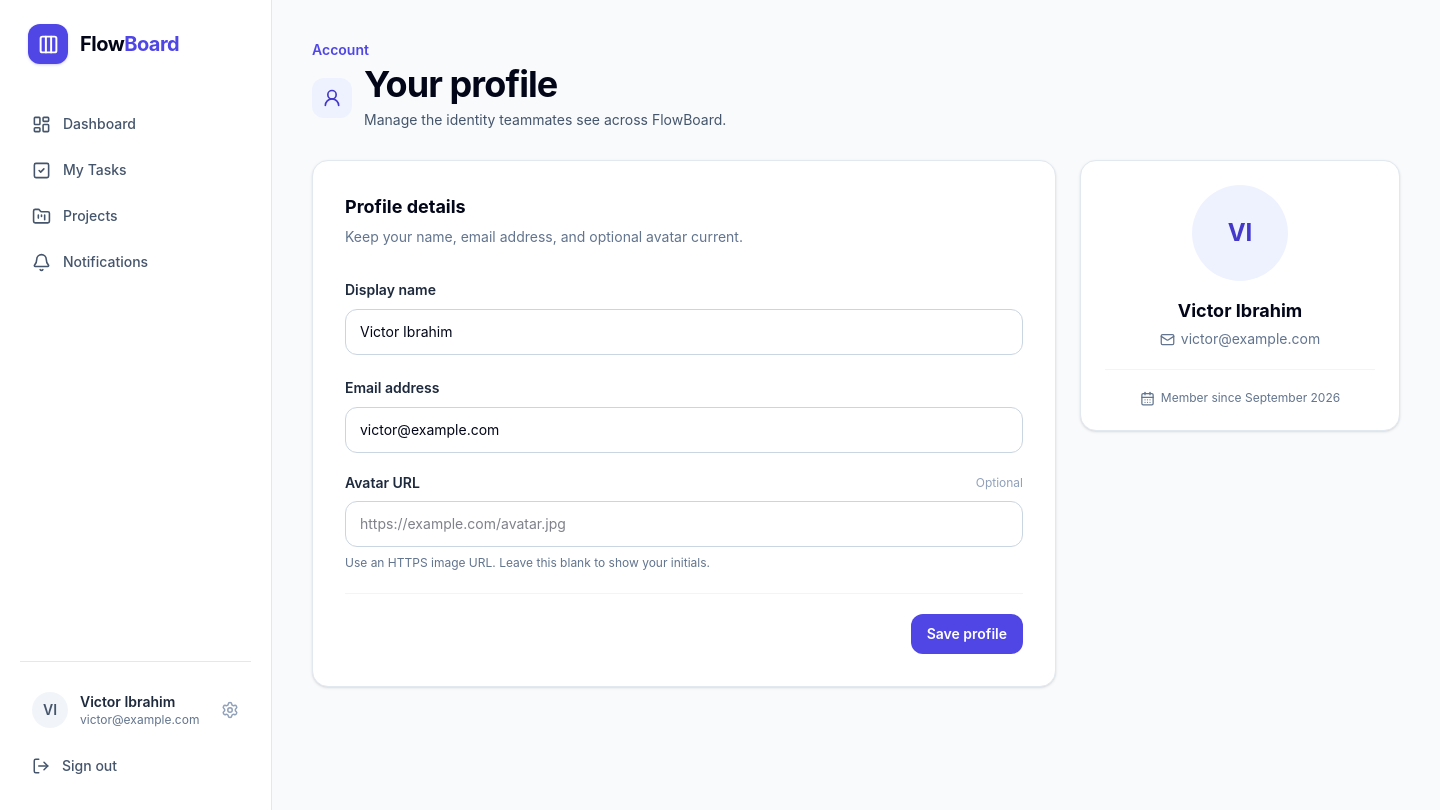
it: FlowBoard authentication flow › updates the signed-in user's profile and refreshes the shell identity
The image size is (1440, 810).
Replace the text in the field labelled "Display name" with "Victor David" at (684, 332), box [345,309,1023,355]
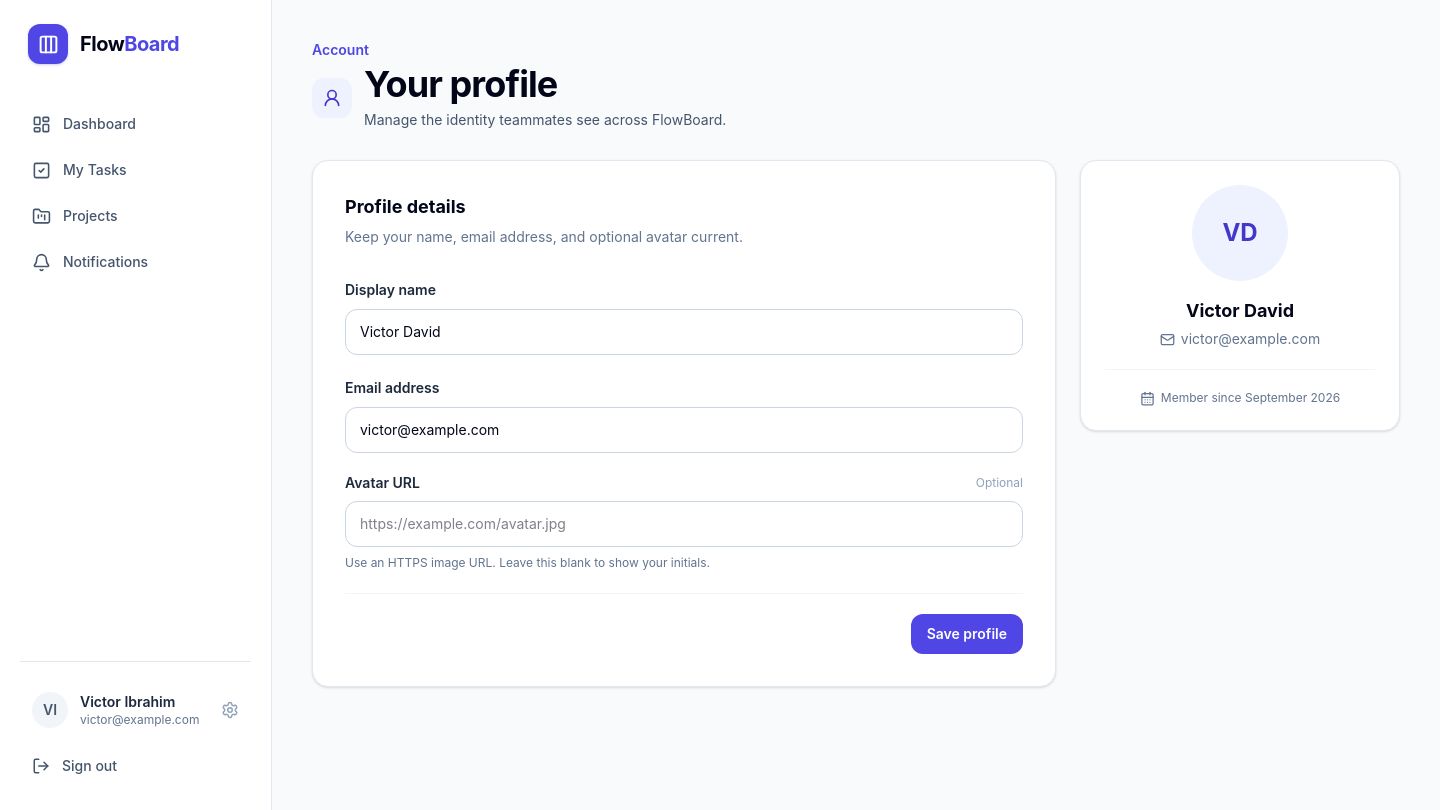
Replace the text in the field labelled "Email address" with "victor.david@example.com" at (684, 430), box [345,407,1023,453]
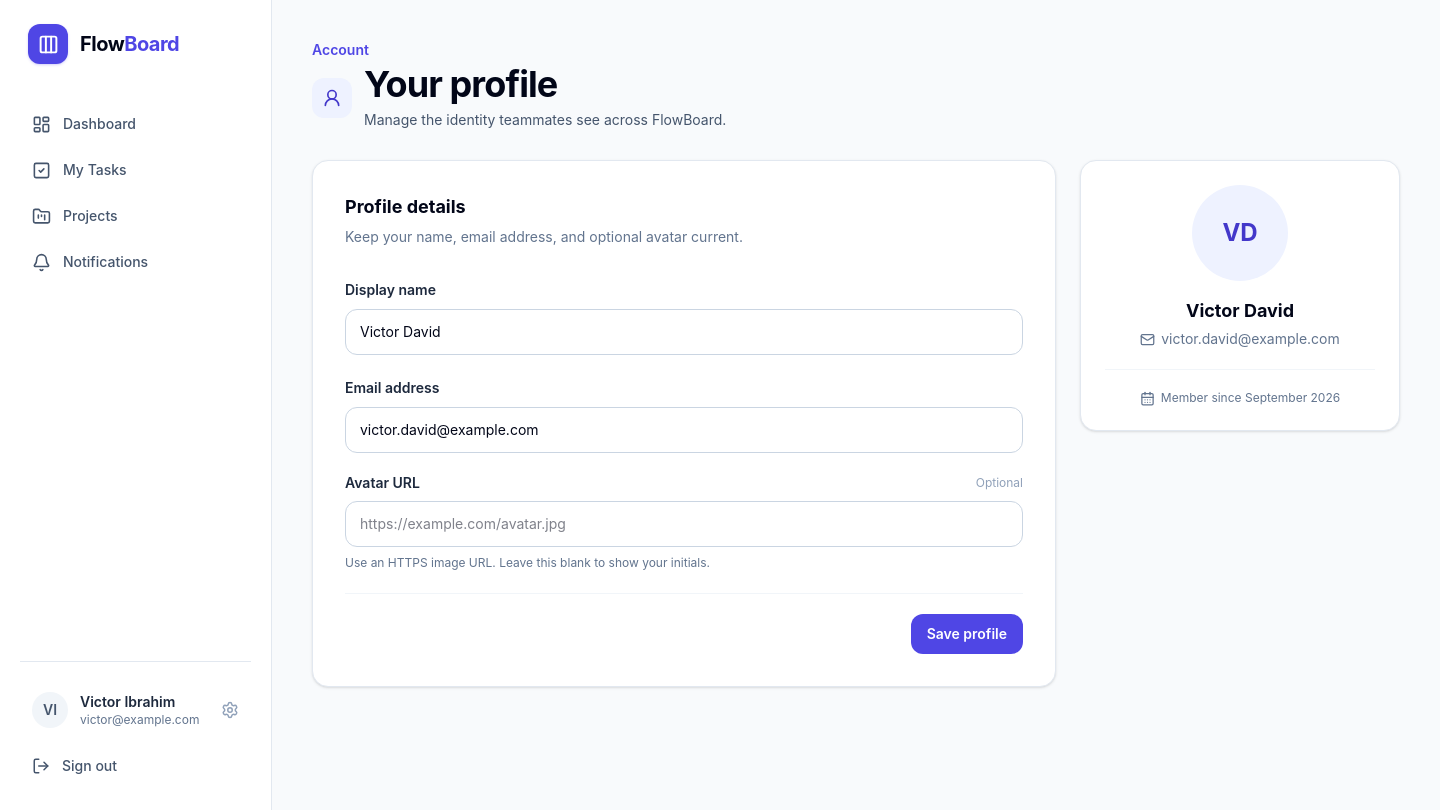
Click the button "Save profile" at (967, 634), box [911,614,1023,654]
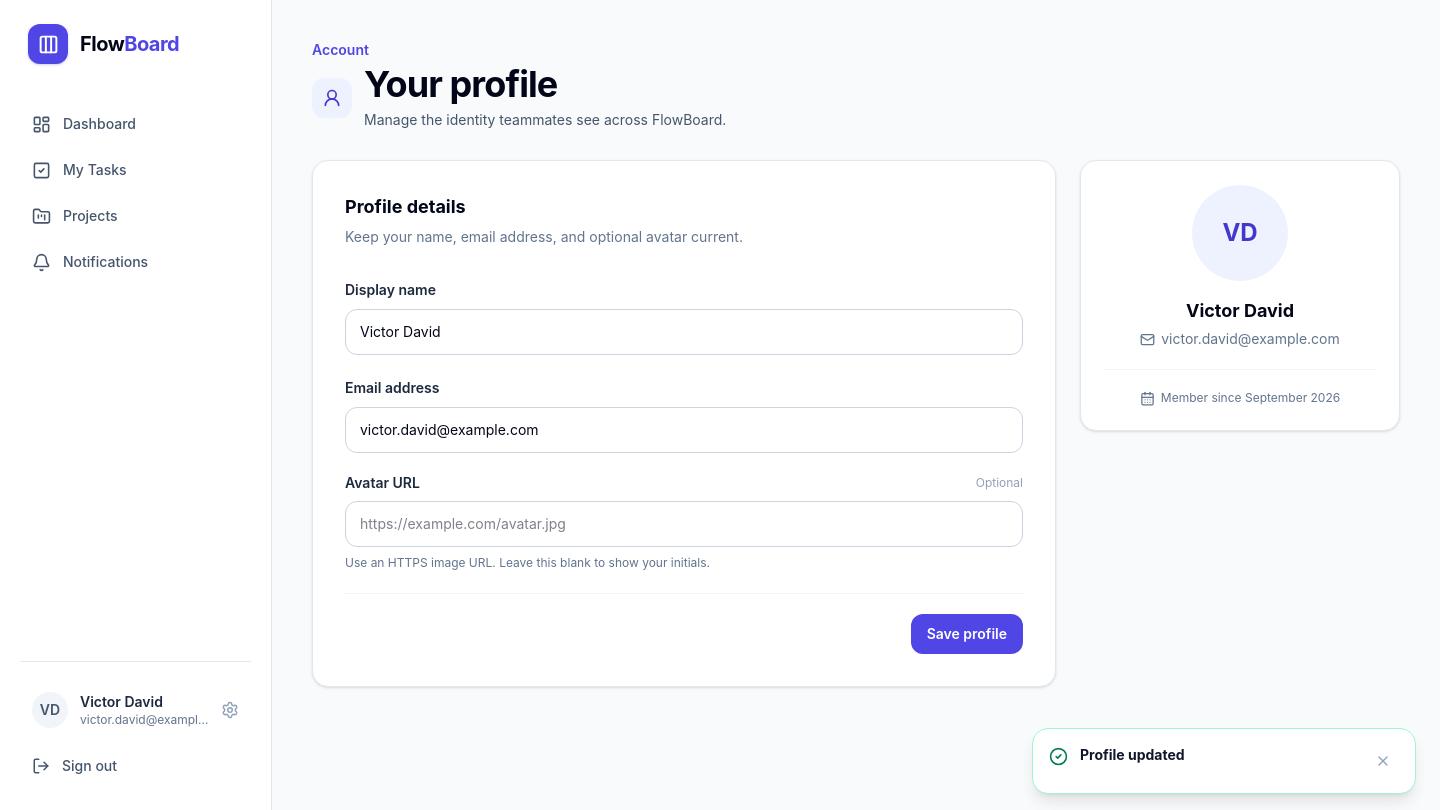
Expected: the message reads "Profile updated", [1080,746,1185,763]
Expected: the text "victor.david@example.com" is shown, [80,712,209,728]
